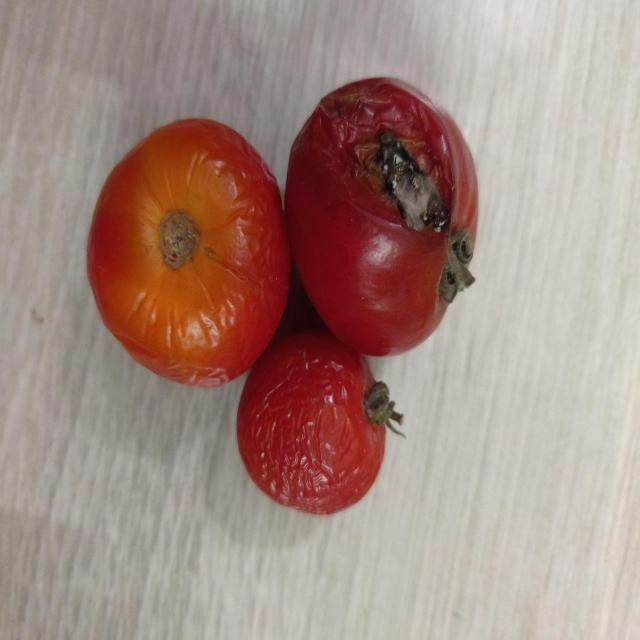Rotten: (285, 74, 477, 354)
